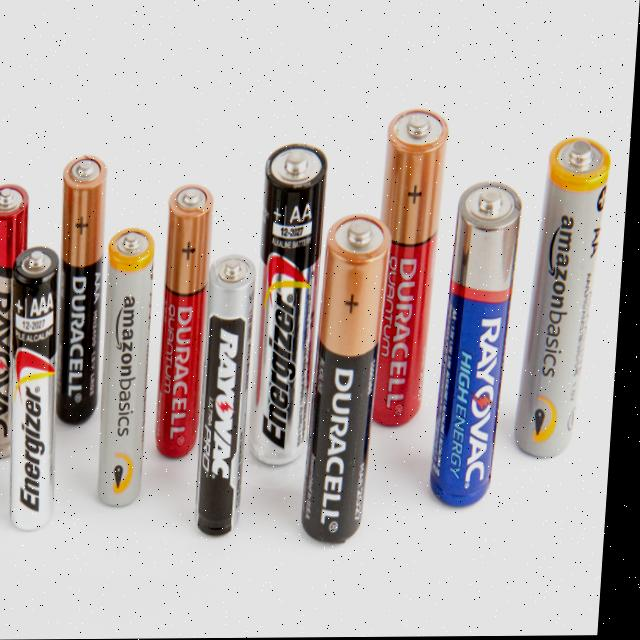battery: (243, 138, 332, 475), (518, 134, 607, 465), (304, 204, 386, 547), (437, 178, 522, 501), (370, 109, 446, 421), (147, 184, 216, 470), (48, 152, 117, 420), (0, 248, 65, 528), (194, 248, 257, 535), (89, 228, 154, 506), (0, 179, 34, 457)
